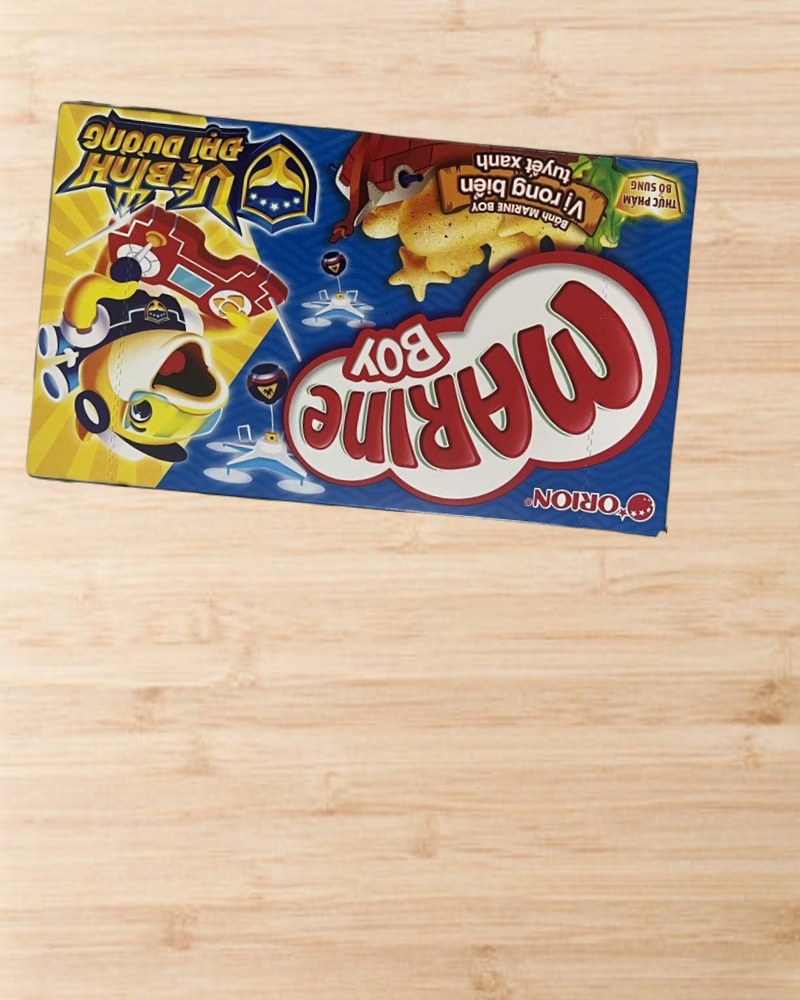Marine: (24, 101, 700, 538)
